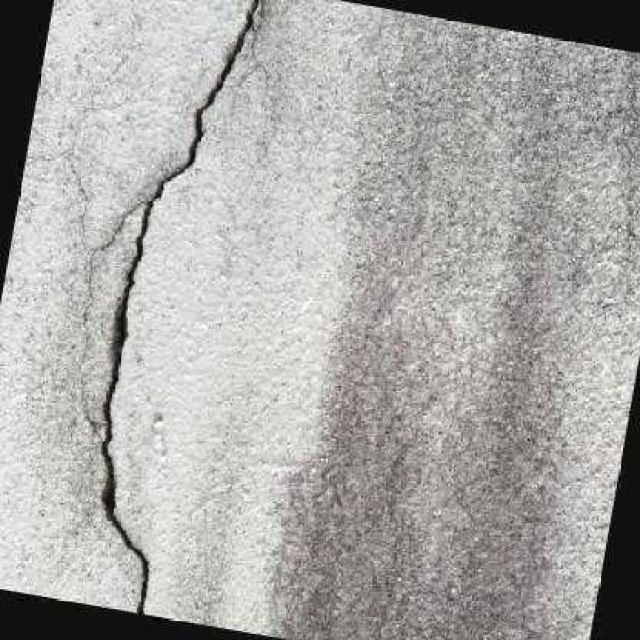D00: (98, 0, 258, 614)
